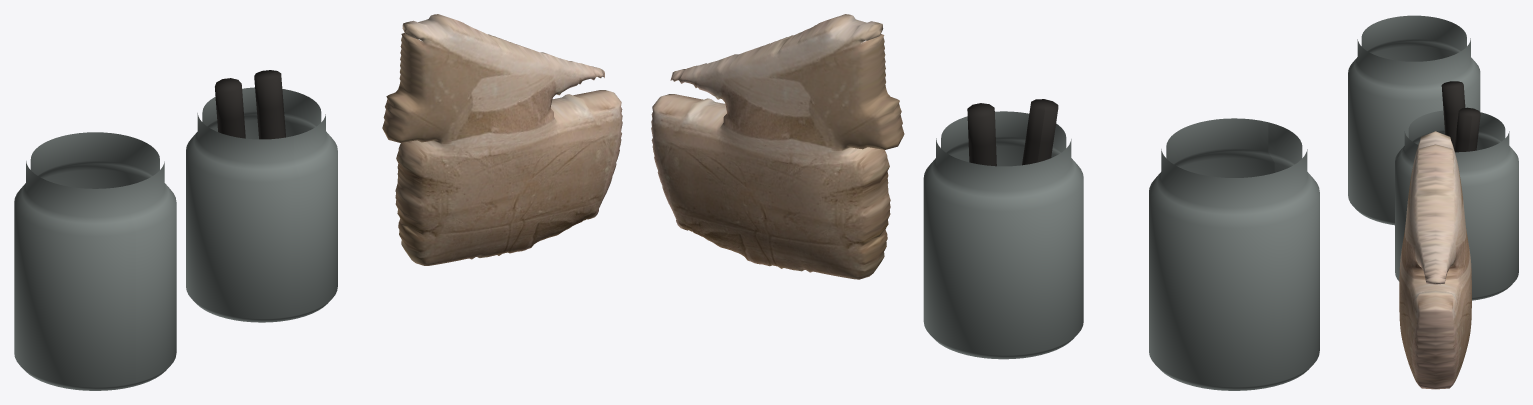
File: pintura_com_terra_23_17_web.glb
3 renders of one model, left to right at view 1: azimuth 30°, elevation 25°; view 2: azimuth 150°, elevation 25°; view 3: azimuth 270°, elevation 25°, orthographic. The views are drawn at different scales.
Parts seen in each view (by area): view 1: Torroes_de_Argila, Potinho_Torroes_e_Giz, Potinho_Carvao; view 2: Torroes_de_Argila, Potinho_Torroes_e_Giz, Potinho_Carvao; view 3: Potinho_Torroes_e_Giz, Torroes_de_Argila, Potinho_Carvao.
Part boxes in pixels (<box>): Torroes_de_Argila: <box>382,14,622,265</box>; Potinho_Torroes_e_Giz: <box>14,132,176,390</box>; Potinho_Carvao: <box>186,70,337,322</box>; Torroes_de_Argila: <box>651,14,904,279</box>; Potinho_Torroes_e_Giz: <box>1149,118,1319,390</box>; Potinho_Carvao: <box>923,99,1083,359</box>; Potinho_Torroes_e_Giz: <box>1348,15,1480,225</box>; Torroes_de_Argila: <box>1399,131,1471,389</box>; Potinho_Carvao: <box>1395,81,1518,300</box>.
Bounding box in the file's own units: 0.266 × 0.1032 × 0.08.
Materials: 5 (2 with a texture image).
